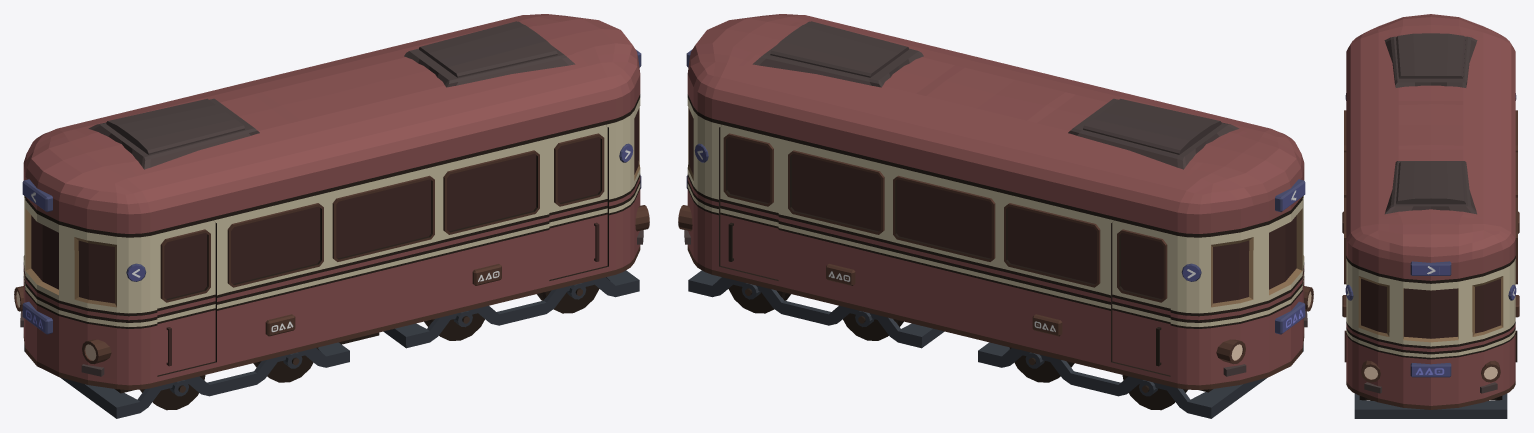
File: 3D_Train_C_regular.fbx
The picture shows the model from 3 angles, left to right: view 1: azimuth 30°, elevation 25°; view 2: azimuth 150°, elevation 25°; view 3: azimuth 270°, elevation 25°; orthographic projection. The views are drawn at different scales.
Visible parts, largest first — view 1: 3D_Train_C_express; view 2: 3D_Train_C_express; view 3: 3D_Train_C_express.
Part boxes in pixels (left/top/right/bottom): 3D_Train_C_express: left=14, top=14, right=649, bottom=418; 3D_Train_C_express: left=678, top=14, right=1313, bottom=418; 3D_Train_C_express: left=1342, top=14, right=1519, bottom=418.
Size of the model in its own units: 1518 by 601 by 473.
